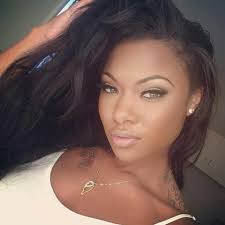black_female: (92, 11, 207, 164)
